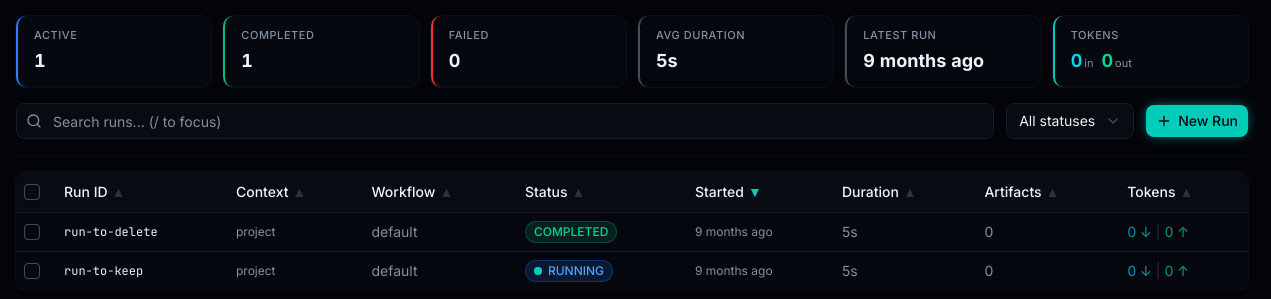
Test: RunListPage - delete flow › shows delete count for multiple selected runs
The image size is (1271, 299).
Check: the text "run-to-delete" is shown, box [56, 212, 228, 251]
Note: Select both runs
Click the checkbox named "Select run run-to-delete".
click(32, 232)  # box [24, 224, 40, 240]
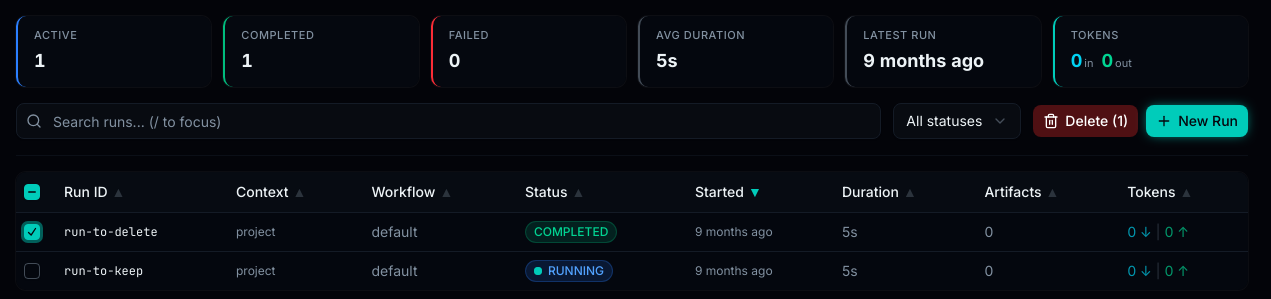
Click the checkbox named "Select run run-to-keep".
click(32, 271)  # box [24, 263, 40, 279]
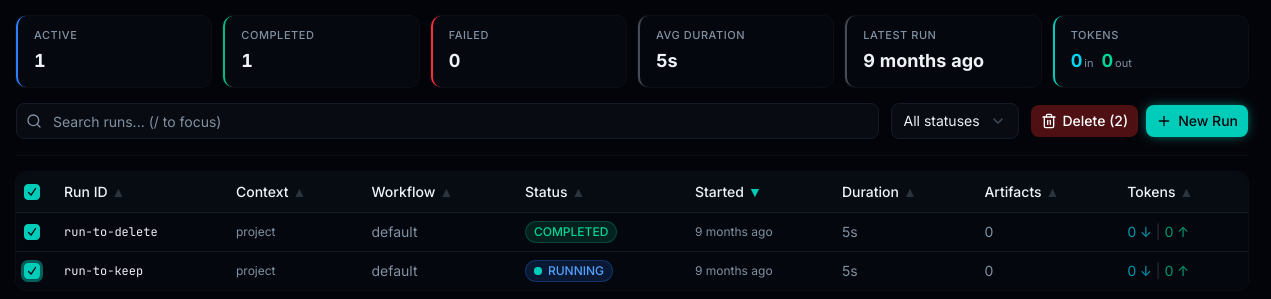
Check: the button "Delete (2)" is shown, box [1030, 105, 1138, 137]
